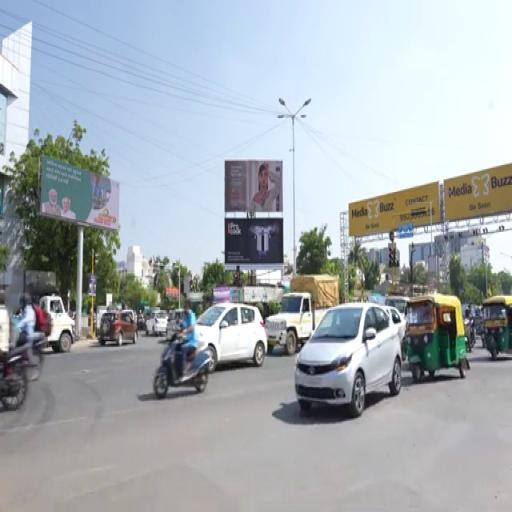Car: (295, 303, 401, 416), (196, 303, 267, 372), (98, 311, 138, 345), (384, 306, 407, 361), (384, 306, 407, 341), (166, 309, 184, 341), (146, 311, 167, 335)
